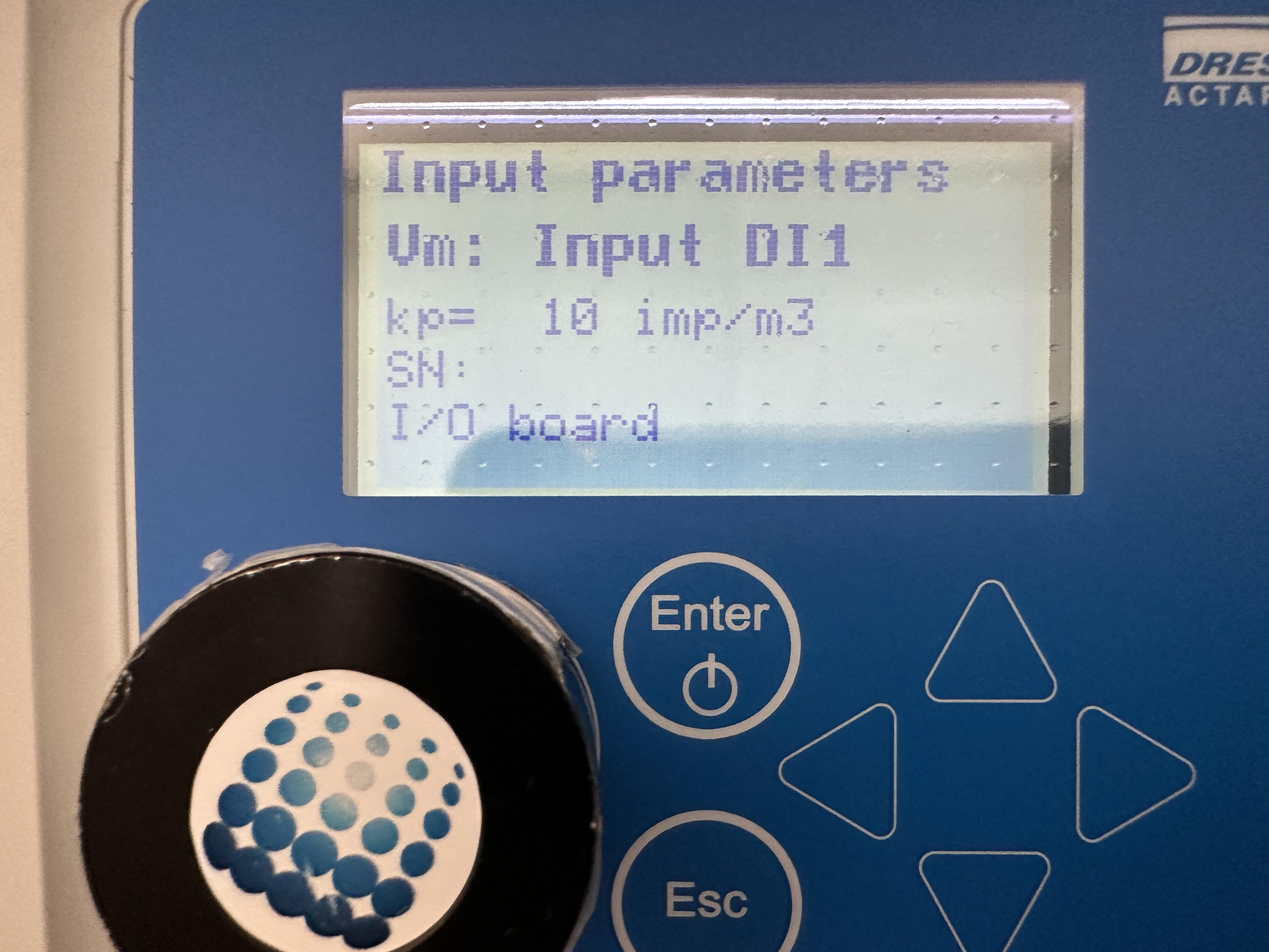digital_screen: (356, 142, 1050, 495)
